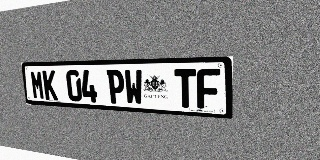0: (66, 70, 82, 102)
4: (80, 70, 98, 103)
F: (197, 69, 220, 110)
K: (42, 70, 58, 100)
M: (30, 70, 45, 100)
P: (107, 70, 125, 104)
T: (174, 69, 196, 108)
W: (124, 69, 143, 105)
